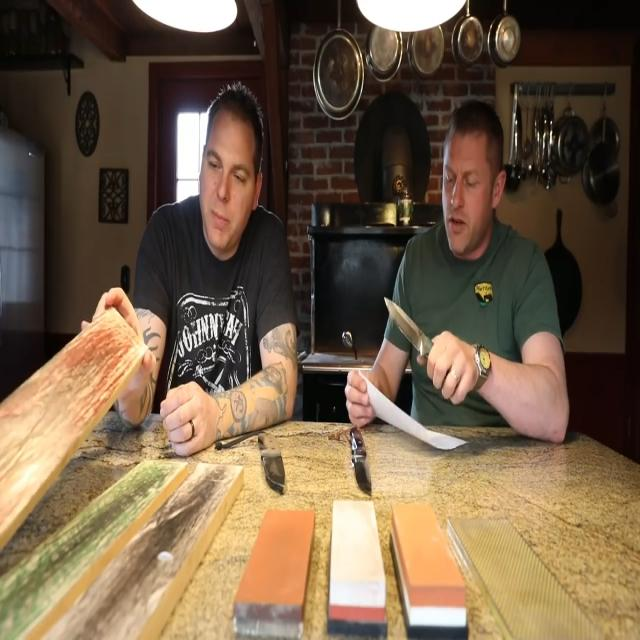knife: (384, 294, 436, 360), (257, 431, 289, 496), (349, 428, 375, 500)
